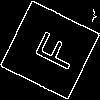F: (25, 25, 80, 73)
